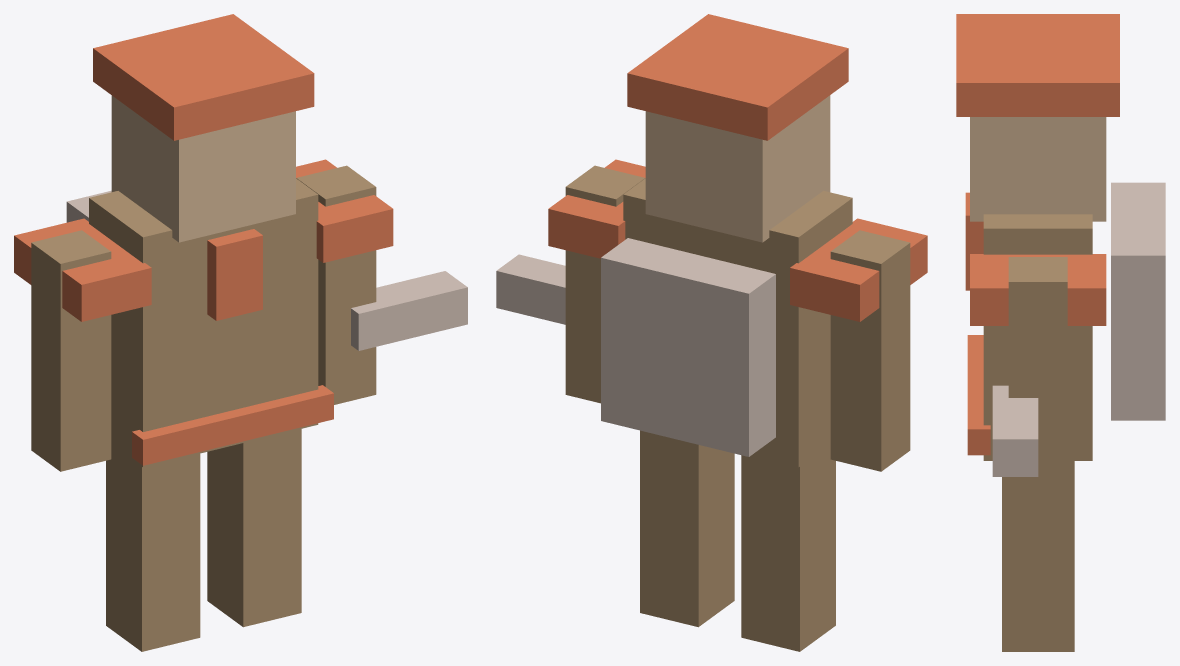
The model's file is 14_maelis_tideforged_ranger_of_sonic.glb.
The picture shows the model from 3 angles, left to right: view 1: azimuth 30°, elevation 25°; view 2: azimuth 150°, elevation 25°; view 3: azimuth 270°, elevation 25°; orthographic projection.
Parts seen in each view (by area): view 1: Maelis Tideforged, Ranger of Sonic; view 2: Maelis Tideforged, Ranger of Sonic; view 3: Maelis Tideforged, Ranger of Sonic.
Part boxes in pixels (x1=…): Maelis Tideforged, Ranger of Sonic: x1=14, y1=14, x2=467, y2=651; Maelis Tideforged, Ranger of Sonic: x1=496, y1=14, x2=927, y2=651; Maelis Tideforged, Ranger of Sonic: x1=956, y1=14, x2=1165, y2=651.
Size of the model in its own units: 1.08 by 1.44 by 0.4831.
